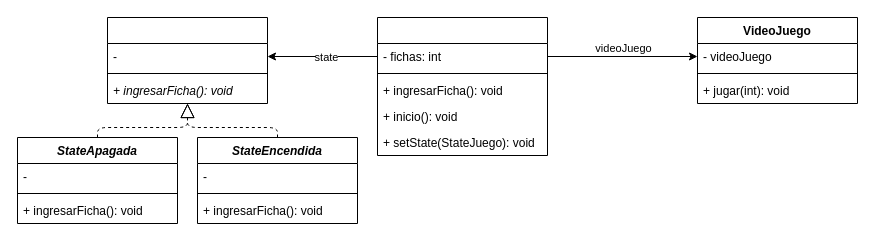
This 875x244 diagram has some shape labels left out. The box of each missing label's shape, as (x1, y1, x2, y2) in pixels:
Maquina: (376, 16, 548, 156)
StateJuego: (106, 16, 268, 104)
